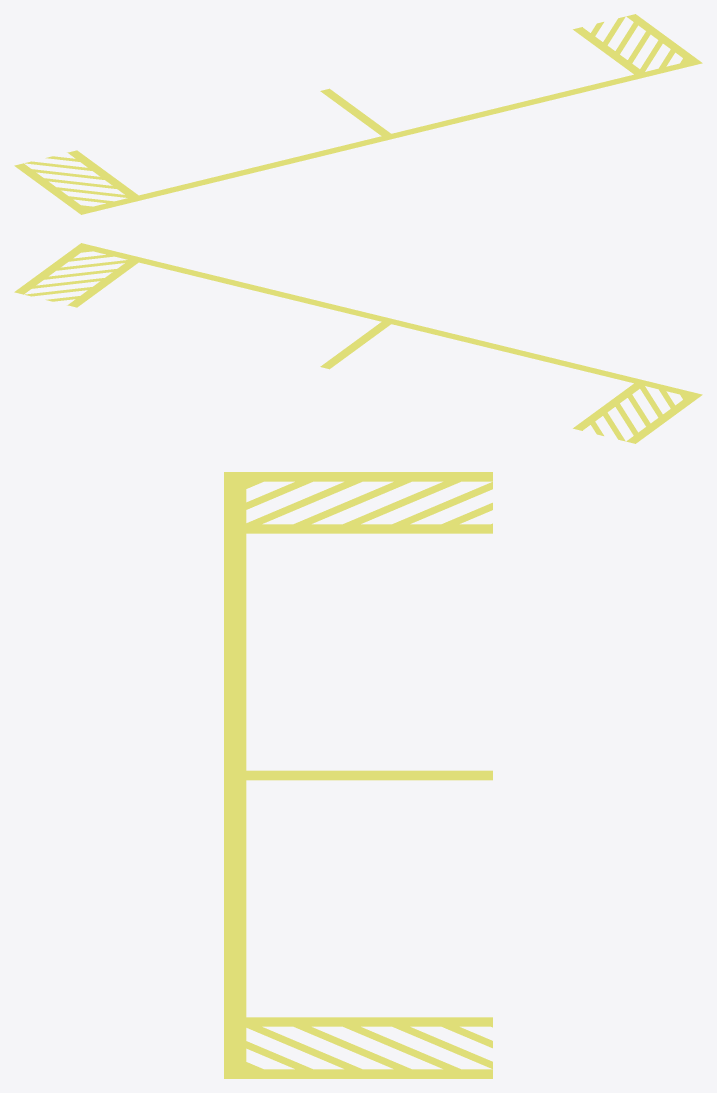
The model's file is tp_curb_bay_01a.glb.
The picture shows the model from 3 angles, top to bottom: view 1: azimuth 30°, elevation 25°; view 2: azimuth 150°, elevation 25°; view 3: azimuth 270°, elevation 25°; orthographic projection. The views are drawn at different scales.
Visible parts, largest first — view 1: TP_Curb_Bay_01A; view 2: TP_Curb_Bay_01A; view 3: TP_Curb_Bay_01A.
Part boxes in pixels (x1,y1,x2,y2): TP_Curb_Bay_01A: (14,14,702,214); TP_Curb_Bay_01A: (14,243,702,443); TP_Curb_Bay_01A: (224,472,492,1078).
Bounding box in the file's own units: 16 × 0 × 3.
Materials: 1 (1 with a texture image).
